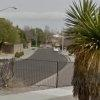Palm tree: (62, 5, 100, 95)
